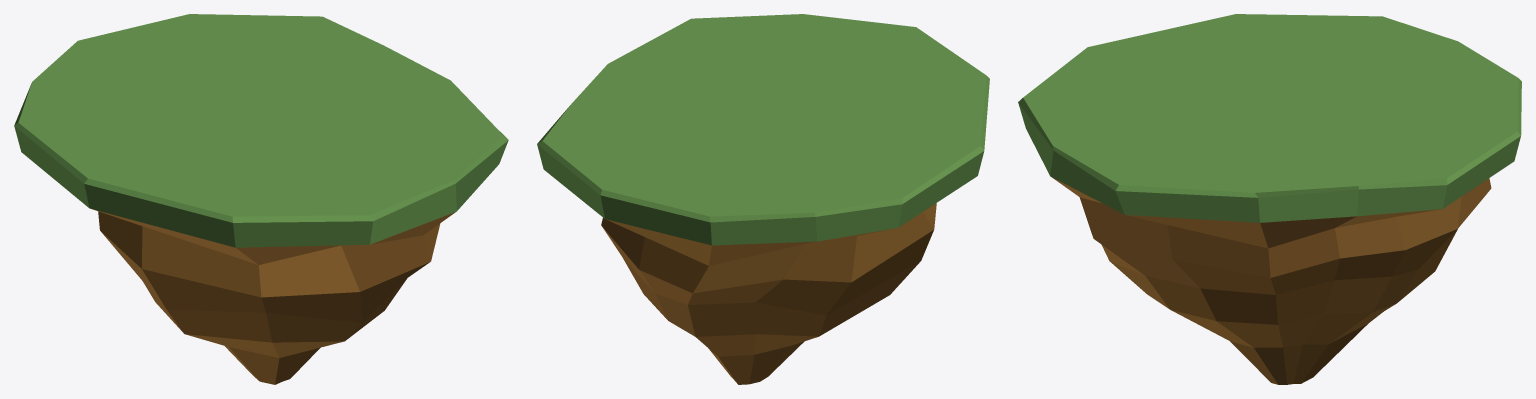
File: Platform_BIG_3.fbx
3 views of the same model, side by side, from view 1: azimuth 30°, elevation 25°; view 2: azimuth 150°, elevation 25°; view 3: azimuth 270°, elevation 25° (orthographic). The views are drawn at different scales.
Parts seen in each view (by area): view 1: Platform; view 2: Platform; view 3: Platform.
Part boxes in pixels (x1=…): Platform: x1=14, y1=14, x2=508, y2=384; Platform: x1=537, y1=14, x2=989, y2=384; Platform: x1=1018, y1=14, x2=1521, y2=384.
Size of the model in its own units: 3807 by 2576 by 4469.
